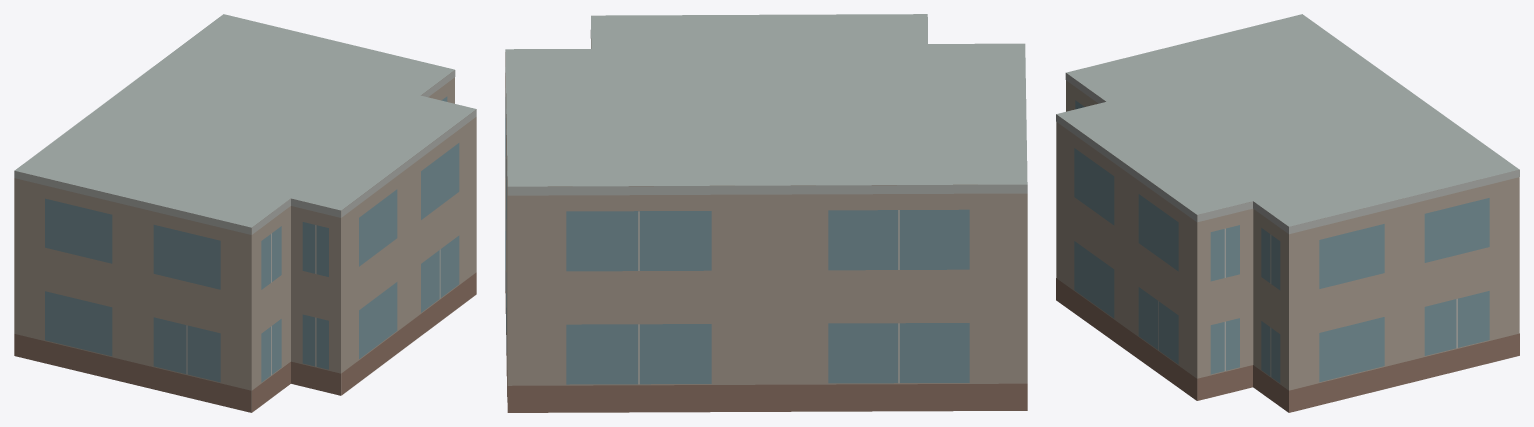
The model's file is survey-upis-32674347.glb.
The picture shows the model from 3 angles, left to right: view 1: azimuth 30°, elevation 25°; view 2: azimuth 150°, elevation 25°; view 3: azimuth 270°, elevation 25°; orthographic projection. The views are drawn at different scales.
Parts seen in each view (by area): view 1: survey-upis-32674347.tmp; view 2: survey-upis-32674347.tmp; view 3: survey-upis-32674347.tmp.
Boxes of the visible parts, <box> form: survey-upis-32674347.tmp: <box>14,14,476,412</box>; survey-upis-32674347.tmp: <box>505,14,1027,412</box>; survey-upis-32674347.tmp: <box>1056,14,1519,412</box>.
Size of the model in its own units: 14.97 by 6.1 by 13.79.
